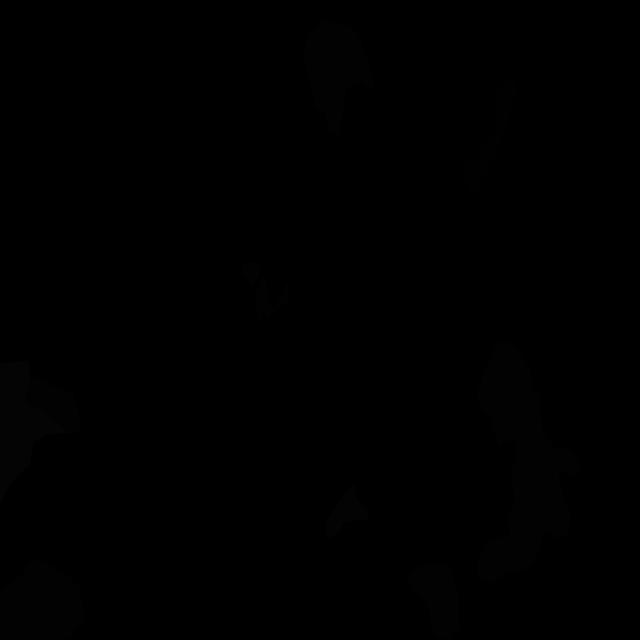cardboard: (476, 340, 580, 586), (304, 18, 375, 134), (0, 558, 84, 639), (406, 561, 463, 640), (25, 376, 81, 435), (254, 278, 290, 323), (242, 262, 262, 286)
metal: (325, 483, 370, 539)
rigid_plastic: (462, 75, 517, 201)
soft_plastic: (0, 361, 73, 506)
